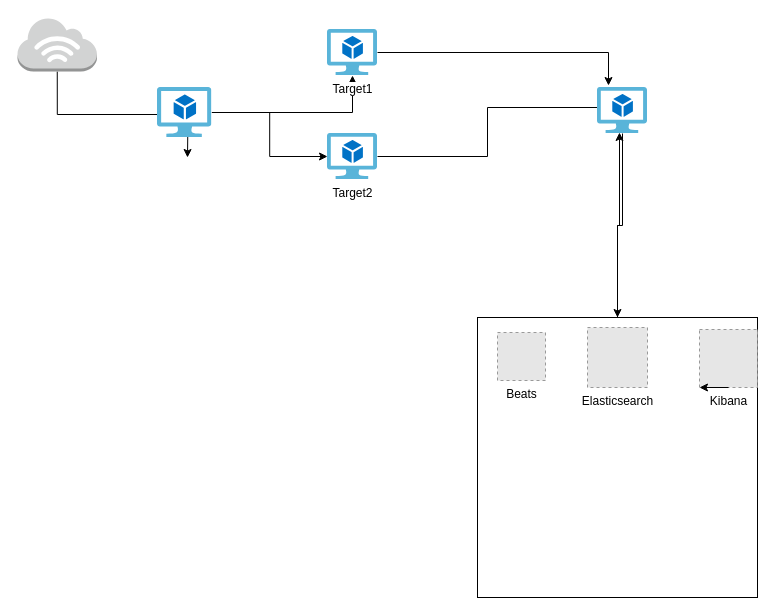
Image size: 775x615. Some labels were removed from this diagram. Grey dashed boxes stand in for pictures. Each missing label, with the box of its shape:
Capstone 192.168.1.105: (597, 87, 647, 133)
ELK 192.168.1.100: (476, 316, 758, 598)
KALI 192.168.1.90: (157, 87, 211, 137)
